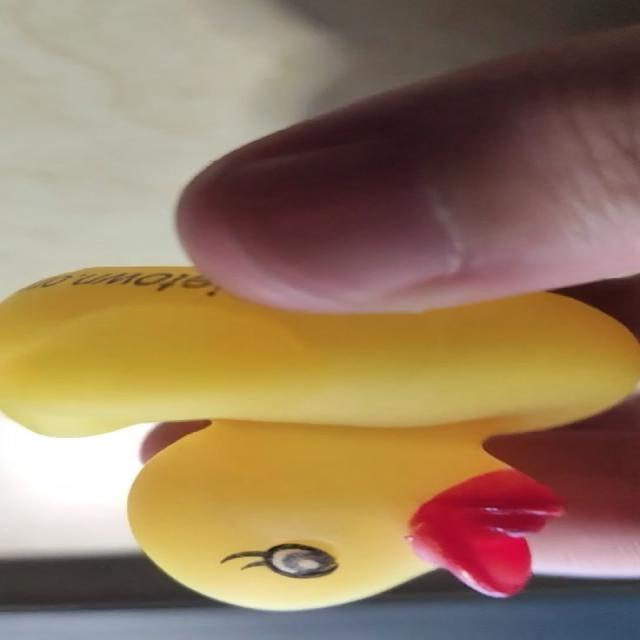rubber-duck: (0, 266, 638, 608)
